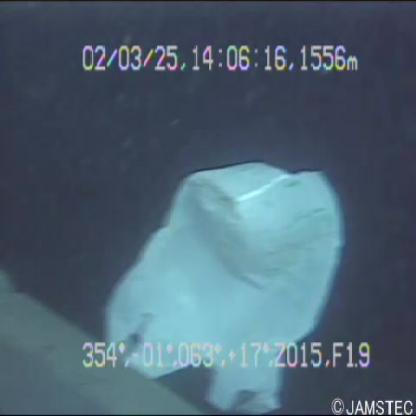Rov: (1, 245, 216, 413)
Rác: (103, 137, 350, 414)
